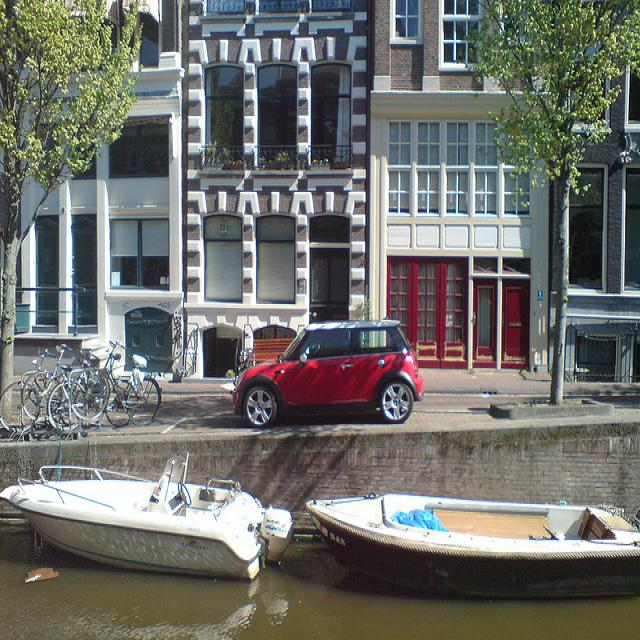Vehicle: (232, 320, 425, 425)
